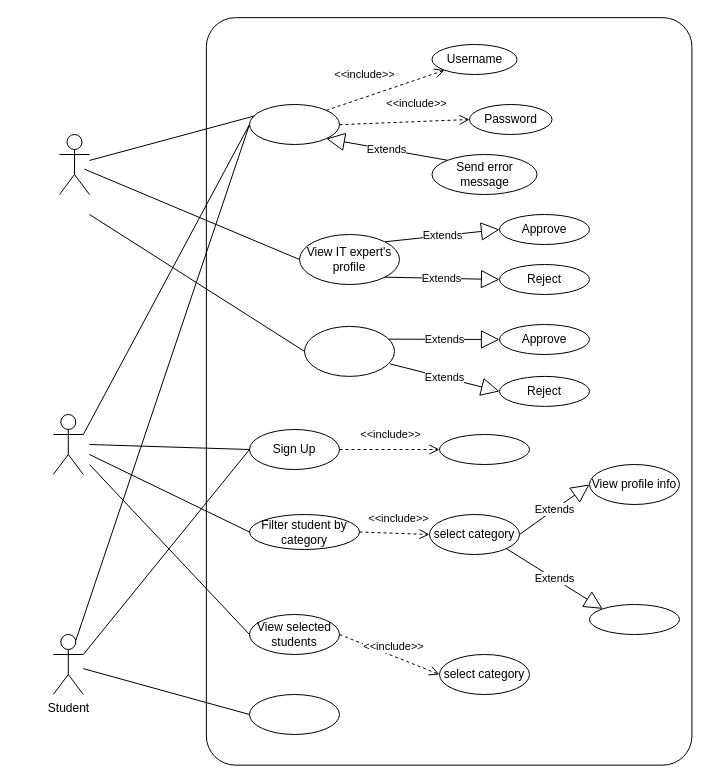
Some shapes in this 710 by 783 pixel diagram are drawn without their labels. Here are the shapes that lost their labels. From the top down, the centre of each, then its label:
At point (294, 124): "Sign In".
At point (74, 164): "Admin (IPT Manager)".
At point (349, 350): "View student's profile".
At point (67, 444): "IT Expert".
At point (484, 449): "Enter details".
At point (634, 619): "Select".
At point (294, 714): "Add qualifications".
